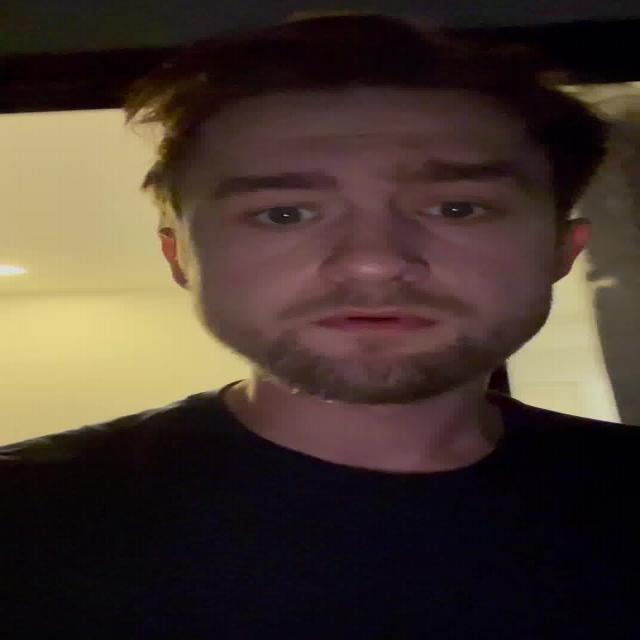earlobe: (551, 258, 575, 284), (170, 267, 192, 292)
eye: (251, 205, 320, 228), (422, 201, 490, 221)
nose: (327, 274, 422, 309)
wholeear: (552, 218, 594, 284), (156, 227, 192, 292)
